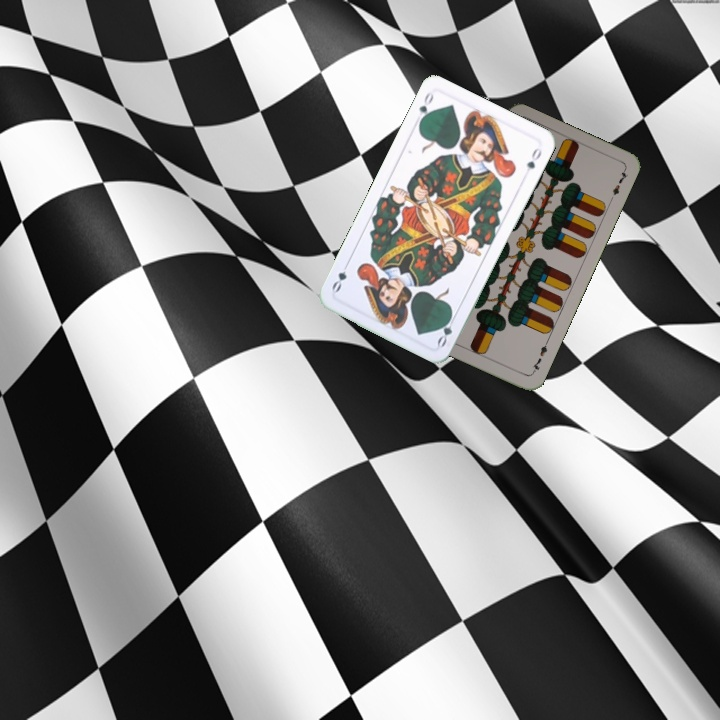E7: (528, 338, 551, 376)
GO: (433, 309, 459, 349), (414, 88, 436, 128)
